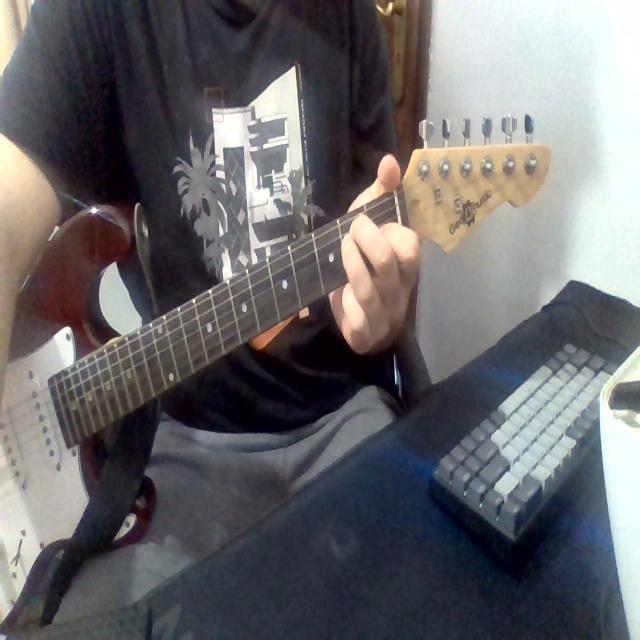E: (338, 209, 451, 306)
